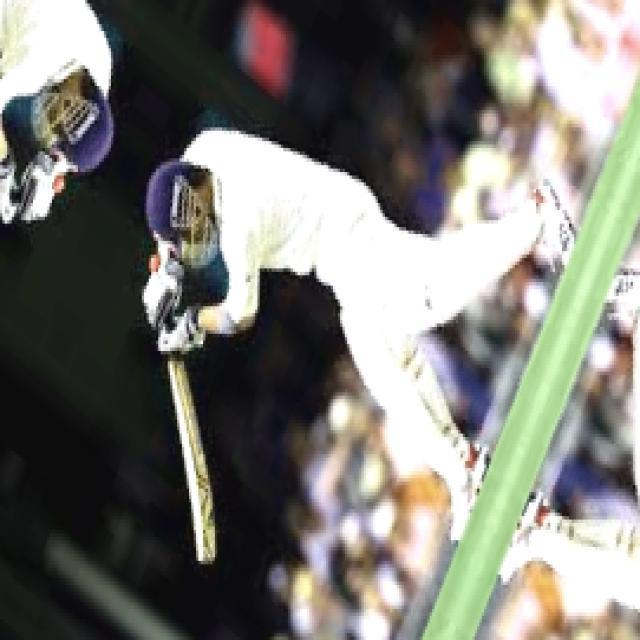bat: (164, 350, 223, 570)
